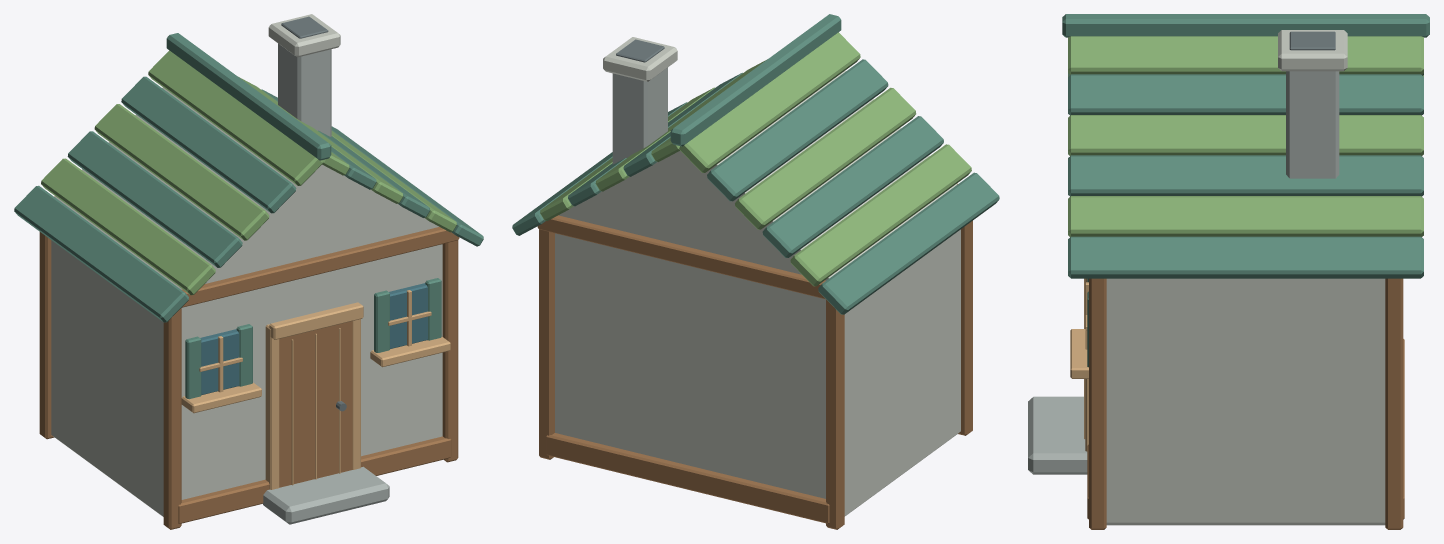
3 views of the same model, side by side, from view 1: azimuth 30°, elevation 25°; view 2: azimuth 150°, elevation 25°; view 3: azimuth 270°, elevation 25° (orthographic). The views are drawn at different scales.
Visible parts, largest first — view 1: village-cottage-01; view 2: village-cottage-01; view 3: village-cottage-01.
Boxes of the visible parts, x1,y1,x2,y2 form: village-cottage-01: (14, 14, 483, 529); village-cottage-01: (512, 14, 999, 529); village-cottage-01: (1028, 14, 1429, 529).
Size of the model in its own units: 3.02 by 3.39 by 2.71.
